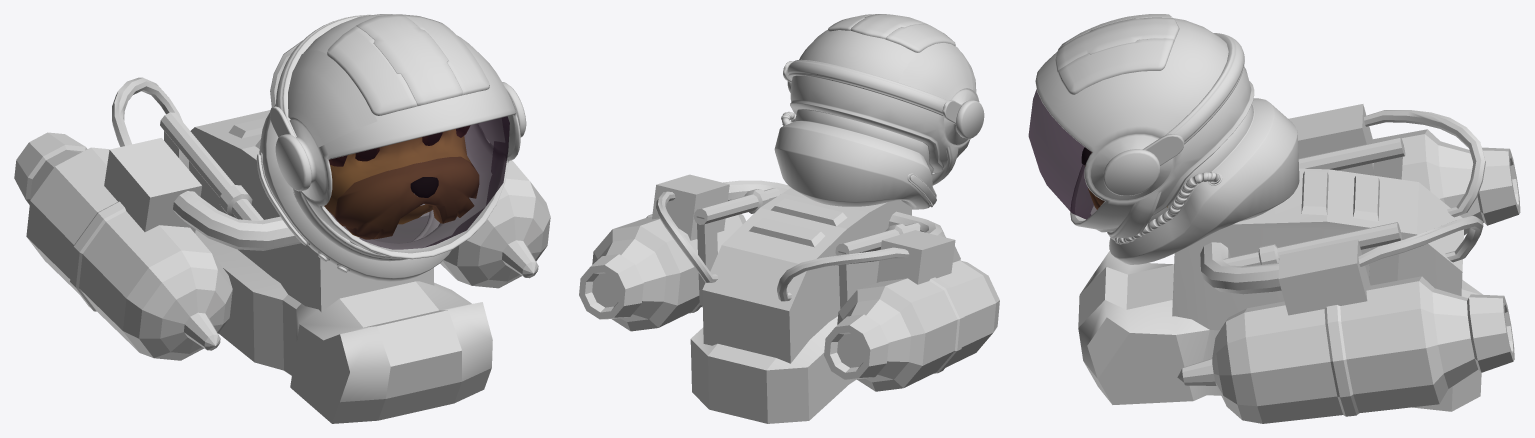
File: AstroYorkie.glb
The picture shows the model from 3 angles, left to right: view 1: azimuth 30°, elevation 25°; view 2: azimuth 150°, elevation 25°; view 3: azimuth 270°, elevation 25°; orthographic projection. The views are drawn at different scales.
Parts seen in each view (by area): view 1: Jetpack, Amor, Material3-material, Helmet_Armor.001, Mirror, Mustache, Head, Helmet_Armor; view 2: Jetpack, Amor, Material3-material, Helmet_Armor.001, Helmet_Armor; view 3: Jetpack, Amor, Material3-material, Helmet_Armor.001, Mirror, Helmet_Armor.
Boxes of the visible parts, bbox=[...] form: Jetpack: bbox=[14, 40, 550, 360]; Amor: bbox=[189, 110, 492, 423]; Material3-material: bbox=[259, 14, 526, 281]; Helmet_Armor.001: bbox=[256, 14, 515, 272]; Mirror: bbox=[324, 116, 509, 249]; Mustache: bbox=[334, 156, 479, 239]; Head: bbox=[324, 129, 470, 224]; Helmet_Armor: bbox=[293, 124, 489, 261]; Jetpack: bbox=[579, 174, 999, 391]; Amor: bbox=[690, 188, 960, 423]; Material3-material: bbox=[774, 30, 984, 209]; Helmet_Armor.001: bbox=[781, 14, 955, 207]; Helmet_Armor: bbox=[932, 142, 958, 185]; Jetpack: bbox=[1177, 104, 1520, 423]; Amor: bbox=[1078, 168, 1483, 411]; Material3-material: bbox=[1035, 18, 1299, 264]; Helmet_Armor.001: bbox=[1055, 14, 1244, 244]; Mirror: bbox=[1028, 89, 1104, 219]; Helmet_Armor: bbox=[1107, 187, 1161, 243].
Size of the model in its own units: 0.3933 by 0.329 by 0.4161.
